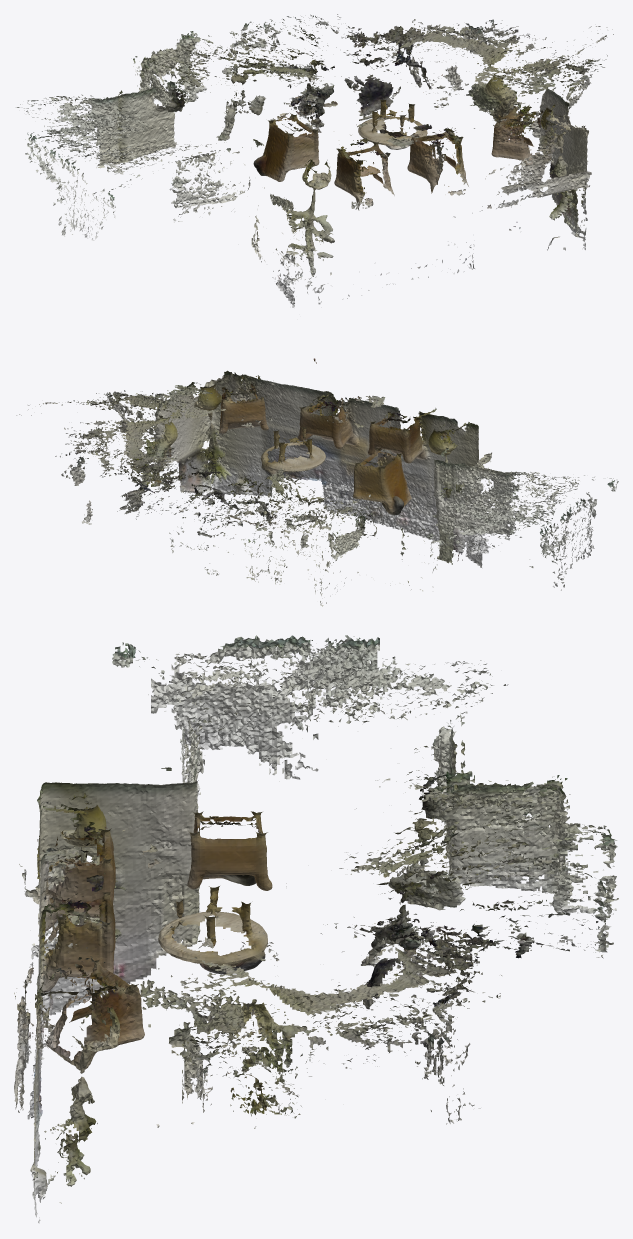
File: OBSERVED-gap-guided-full.glb
The picture shows the model from 3 angles, top to bottom: view 1: azimuth 30°, elevation 25°; view 2: azimuth 150°, elevation 25°; view 3: azimuth 270°, elevation 25°; orthographic projection. The views are drawn at different scales.
Visible parts, largest first — view 1: world; view 2: world; view 3: world.
Boxes of the visible parts, x1=… form: world: x1=16, y1=14, x2=613, y2=307; world: x1=16, y1=358, x2=618, y2=606; world: x1=14, y1=635, x2=618, y2=1223.
Bounding box in the file's own units: 10.25 × 3.4 × 5.88.
